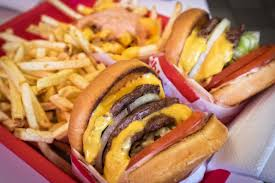hamburger: (68, 59, 223, 183), (168, 7, 275, 104)
